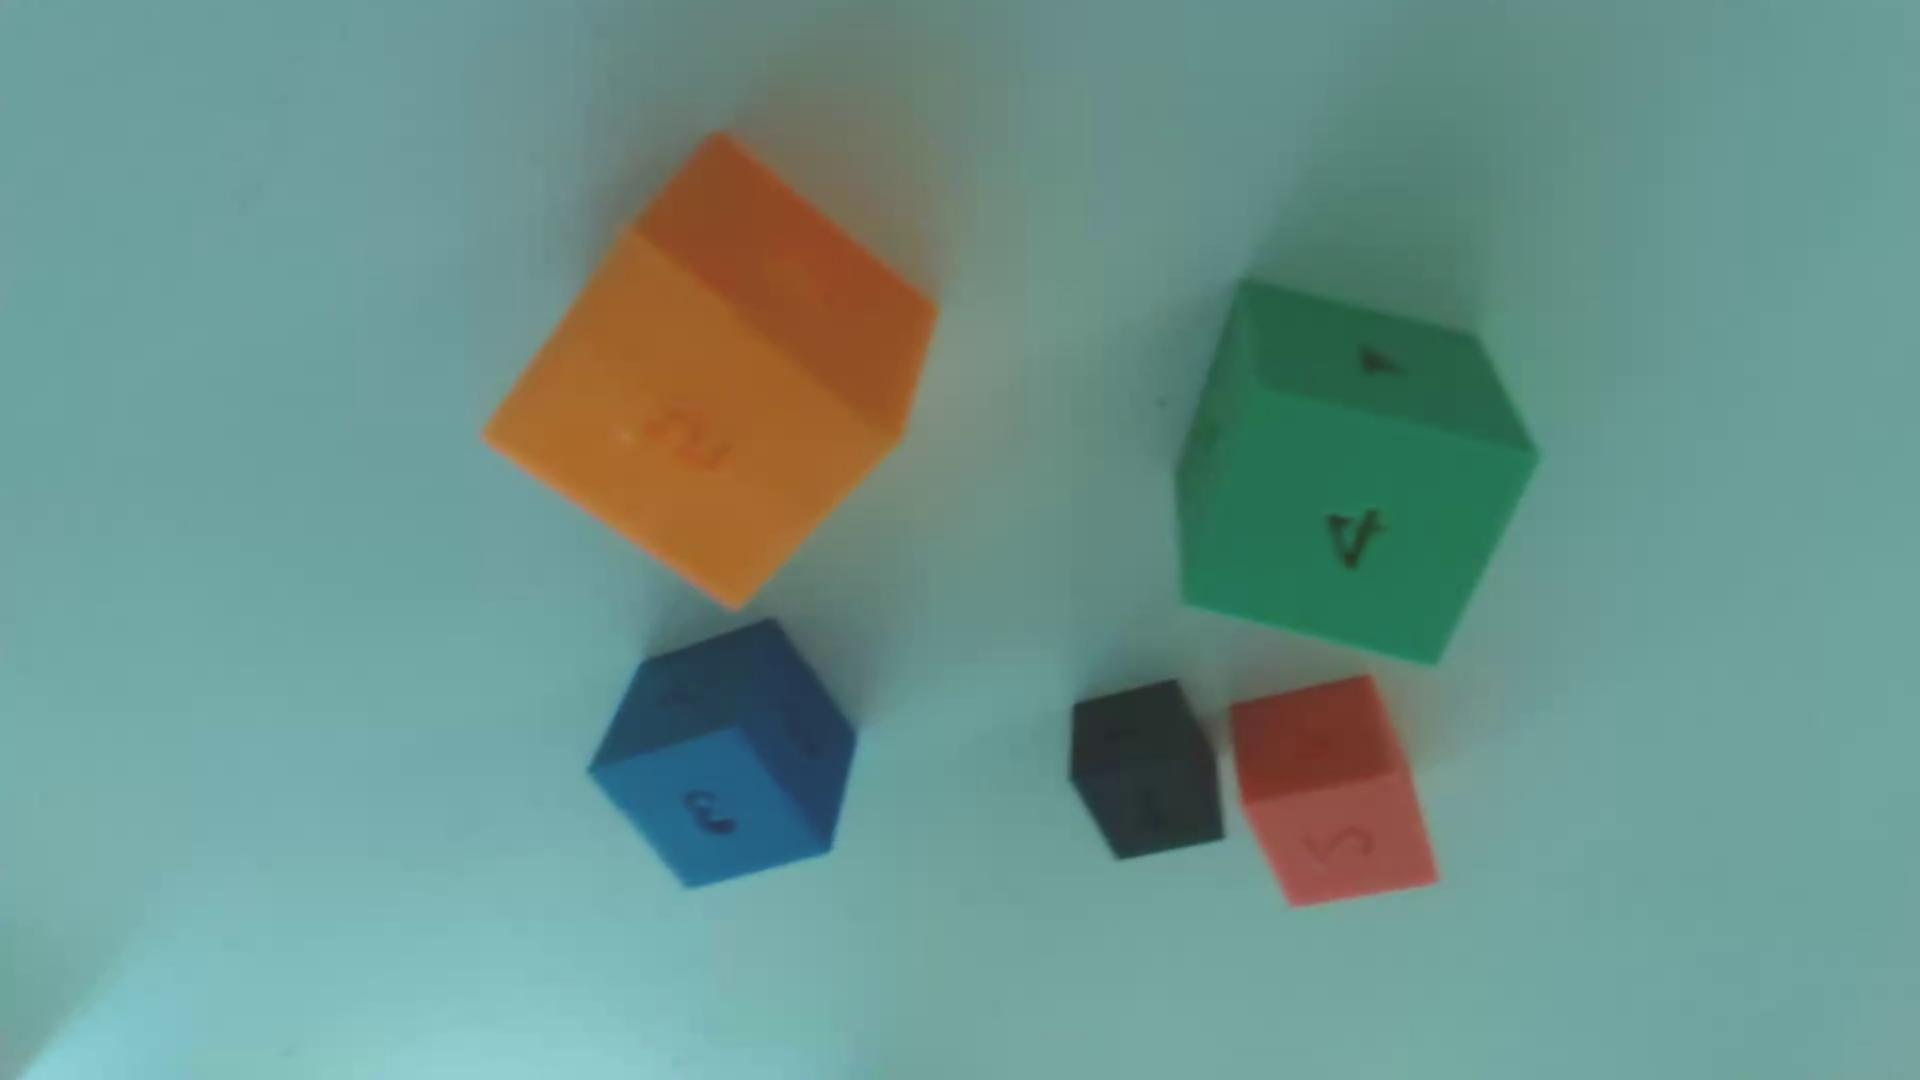black: (1068, 679, 1225, 858)
blue: (589, 618, 857, 887)
green: (1175, 281, 1536, 663)
orange: (484, 135, 938, 607)
red: (1230, 674, 1437, 905)
